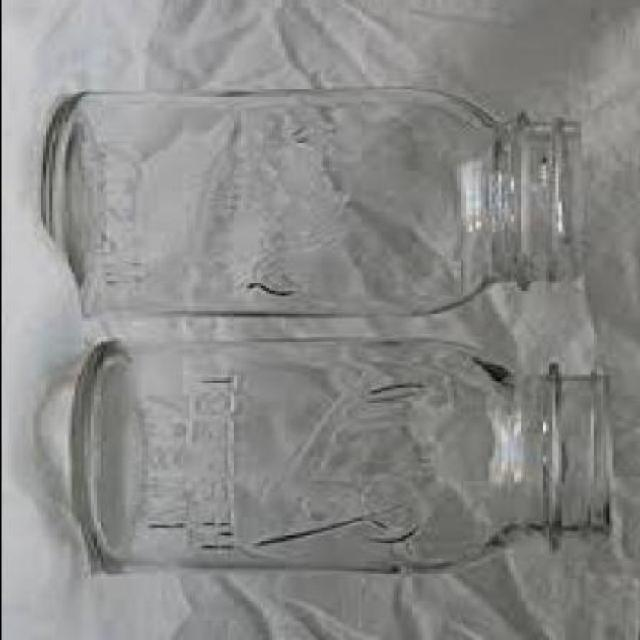GLASS: (73, 342, 618, 578), (45, 92, 589, 316)
